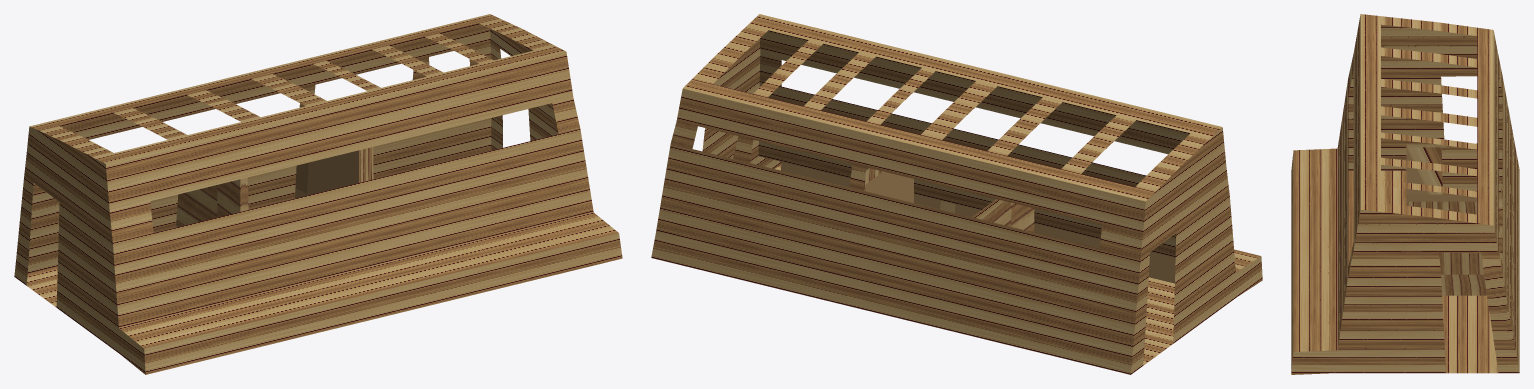
Rendered from Locker.glb.
The picture shows the model from 3 angles, left to right: view 1: azimuth 30°, elevation 25°; view 2: azimuth 150°, elevation 25°; view 3: azimuth 270°, elevation 25°; orthographic projection. The views are drawn at different scales.
Parts seen in each view (by area): view 1: Cube; view 2: Cube; view 3: Cube.
Part boxes in pixels (bbox=[...]): Cube: bbox=[14, 14, 622, 374]; Cube: bbox=[651, 14, 1262, 374]; Cube: bbox=[1291, 14, 1519, 374].
Size of the model in its own units: 6.18 by 2.25 by 2.95.
Materials: 1 (1 with a texture image).
